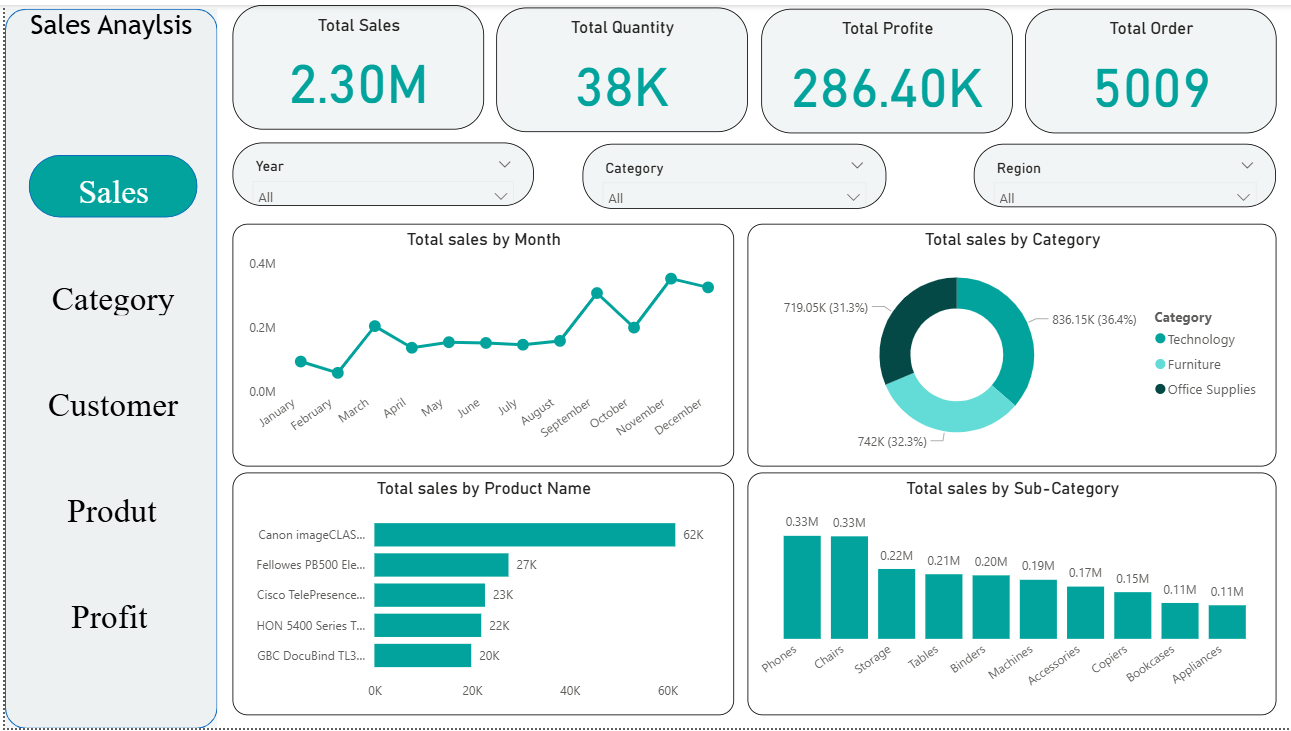

Layout of this report page (visuals, bound fields, positions):
{"tool":"powerbi","page":{"name":"Sales","canvas":[1280,720],"ordinal":1},"visuals":[{"type":"card","title":"Total Sales","fields":{"Values":["DaxMeasure.Total sales"]},"box":[226.4,0,250,124.4],"z":0},{"type":"card","title":"Total Quantity","fields":{"Values":["DaxMeasure.Total Quantity"]},"box":[489.3,2.9,250,124.4],"z":1000},{"type":"card","title":"Total Profite","fields":{"Values":["DaxMeasure.Total Profite"]},"box":[752.2,3.7,250,124.4],"z":2000},{"type":"card","title":"Total Order","fields":{"Values":["DaxMeasure.Total Order"]},"box":[1015.1,3.7,250,124.4],"z":3000},{"type":"shape","box":[0,3.7,211.5,716.5],"z":4000},{"type":"slicer","fields":{"Values":["DateDim.Order Date.Variation.Date Hierarchy.Year"]},"box":[226.4,136.8,299.8,63.4],"z":5000},{"type":"slicer","fields":{"Values":["ProductDim.Category"]},"box":[574.7,138.1,302.3,64.7],"z":6000},{"type":"slicer","fields":{"Values":["CustomerDim.Region"]},"box":[964.1,138.1,301,63.4],"z":7000},{"type":"shape","box":[23.6,149.3,167.9,62.2],"z":8000},{"type":"actionButton","box":[33.6,585.9,140.6,41.1],"z":9000},{"type":"actionButton","box":[41.1,268.7,133.1,39.8],"z":10000},{"type":"actionButton","box":[58.5,163,99.5,39.8],"z":11000},{"type":"actionButton","box":[33.6,374.4,148,39.8],"z":12000},{"type":"actionButton","box":[39.8,480.2,133.1,39.8],"z":13000},{"type":"lineChart","fields":{"Category":["DateDim.Order Date.Variation.Date Hierarchy.Year","DateDim.Order Date.Variation.Date Hierarchy.Quarter","DateDim.Order Date.Variation.Date Hierarchy.Month","DateDim.Order Date.Variation.Date Hierarchy.Day"],"Y":["DaxMeasure.Total sales"]},"box":[226.4,217.7,498.8,241.3],"z":14000},{"type":"donutChart","fields":{"Category":["ProductDim.Category"],"Y":["DaxMeasure.Total sales"]},"box":[738.9,217.7,526.2,241.3],"z":15000},{"type":"barChart","fields":{"Y":["DaxMeasure.Total sales"],"Category":["ProductDim.Product Name"]},"box":[226.4,465.2,498.8,241.3],"z":16000},{"type":"columnChart","fields":{"Category":["ProductDim.Sub-Category"],"Y":["DaxMeasure.Total sales"]},"box":[738.9,465.2,526.2,241.3],"z":17000}]}

Visuals, with their boxes in screenshot pixels (x1, y1, x2, y2), scaled from the page's 1280x720 canvas onto the 1291x731 screenshot:
"Total Sales" card: {"left": 228, "top": 0, "right": 480, "bottom": 126}
"Total Quantity" card: {"left": 494, "top": 3, "right": 746, "bottom": 129}
"Total Profite" card: {"left": 759, "top": 4, "right": 1011, "bottom": 130}
"Total Order" card: {"left": 1024, "top": 4, "right": 1276, "bottom": 130}
shape: {"left": 0, "top": 4, "right": 213, "bottom": 730}
slicer - DateDim.Order Date.Variation.Date Hierarchy.Year: {"left": 228, "top": 139, "right": 531, "bottom": 203}
slicer - ProductDim.Category: {"left": 580, "top": 140, "right": 885, "bottom": 206}
slicer - CustomerDim.Region: {"left": 972, "top": 140, "right": 1276, "bottom": 205}
shape: {"left": 24, "top": 152, "right": 193, "bottom": 215}
actionButton: {"left": 34, "top": 595, "right": 176, "bottom": 637}
actionButton: {"left": 41, "top": 273, "right": 176, "bottom": 313}
actionButton: {"left": 59, "top": 165, "right": 159, "bottom": 206}
actionButton: {"left": 34, "top": 380, "right": 183, "bottom": 421}
actionButton: {"left": 40, "top": 488, "right": 174, "bottom": 528}
lineChart - DateDim.Order Date.Variation.Date Hierarchy.Year x DateDim.Order Date.Variation.Date Hierarchy.Quarter: {"left": 228, "top": 221, "right": 731, "bottom": 466}
donutChart - ProductDim.Category x DaxMeasure.Total sales: {"left": 745, "top": 221, "right": 1276, "bottom": 466}
barChart - DaxMeasure.Total sales x ProductDim.Product Name: {"left": 228, "top": 472, "right": 731, "bottom": 717}
columnChart - ProductDim.Sub-Category x DaxMeasure.Total sales: {"left": 745, "top": 472, "right": 1276, "bottom": 717}
